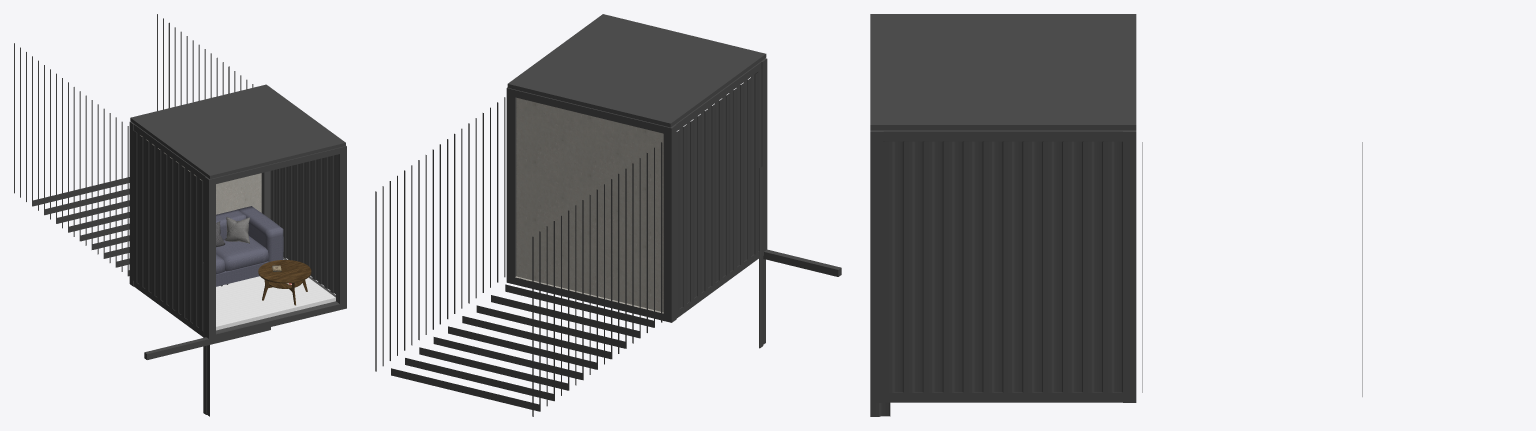
Rendered from telos.glb.
The picture shows the model from 3 angles, left to right: view 1: azimuth 30°, elevation 25°; view 2: azimuth 150°, elevation 25°; view 3: azimuth 270°, elevation 25°; orthographic projection. The views are drawn at different scales.
Visible parts, largest first — view 1: Roof, Floor, Post_Far_Left, Post_Far_Right, Sofa_BackCushion, Moving_End_Wall, Sofa_Cushion, Table, Far_Bottom_Rail, Wall_Left_004, Wall_Left_006, Wall_Left_009 (+34 smaller); view 2: Moving_End_Wall, Roof, Post_Moving_Left, Post_Moving_Right, Wall_Left_001, Wall_Left_004, Wall_Left_005, Wall_Left_006, Wall_Left_008, Wall_Left_010, Wall_Left_007, Wall_Left_011 (+20 smaller); view 3: Roof, Wall_Right_000, Wall_Right_005, Wall_Right_006, Wall_Right_001, Wall_Right_002, Wall_Right_003, Wall_Right_004, Wall_Right_010, Wall_Right_011, Wall_Right_007, Wall_Right_008 (+5 smaller).
Part boxes in pixels (bbox=[...]): Roof: bbox=[130, 84, 345, 178]; Floor: bbox=[216, 259, 335, 330]; Post_Far_Left: bbox=[205, 176, 215, 341]; Post_Far_Right: bbox=[336, 146, 346, 309]; Sofa_BackCushion: bbox=[216, 206, 283, 261]; Moving_End_Wall: bbox=[140, 135, 261, 214]; Sofa_Cushion: bbox=[216, 236, 268, 274]; Table: bbox=[258, 260, 311, 305]; Far_Bottom_Rail: bbox=[216, 301, 339, 340]; Wall_Left_004: bbox=[175, 161, 181, 314]; Wall_Left_006: bbox=[163, 152, 169, 305]; Wall_Left_009: bbox=[145, 139, 151, 292]; Moving_End_Wall: bbox=[515, 97, 663, 313]; Roof: bbox=[507, 14, 766, 127]; Post_Moving_Left: bbox=[663, 124, 676, 322]; Post_Moving_Right: bbox=[506, 87, 516, 284]; Wall_Left_001: bbox=[748, 74, 755, 259]; Wall_Left_004: bbox=[726, 90, 733, 274]; Wall_Left_005: bbox=[719, 95, 726, 280]; Wall_Left_006: bbox=[712, 100, 719, 285]; Wall_Left_008: bbox=[698, 111, 705, 296]; Wall_Left_010: bbox=[683, 121, 690, 306]; Wall_Left_007: bbox=[705, 106, 712, 290]; Wall_Left_011: bbox=[676, 127, 683, 311]; Roof: bbox=[870, 14, 1136, 130]; Wall_Right_000: bbox=[883, 141, 903, 392]; Wall_Right_005: bbox=[983, 141, 1003, 392]; Wall_Right_006: bbox=[1003, 141, 1023, 392]; Wall_Right_001: bbox=[903, 141, 923, 392]; Wall_Right_002: bbox=[923, 141, 943, 392]; Wall_Right_003: bbox=[943, 141, 963, 392]; Wall_Right_004: bbox=[963, 141, 983, 392]; Wall_Right_010: bbox=[1083, 141, 1102, 392]; Wall_Right_011: bbox=[1103, 141, 1122, 392]; Wall_Right_007: bbox=[1023, 141, 1042, 392]; Wall_Right_008: bbox=[1043, 141, 1062, 392].
Size of what is drawn, in the model's own units: 3.48 by 4.01 by 5.88.
Materials: 11 (8 with a texture image).
